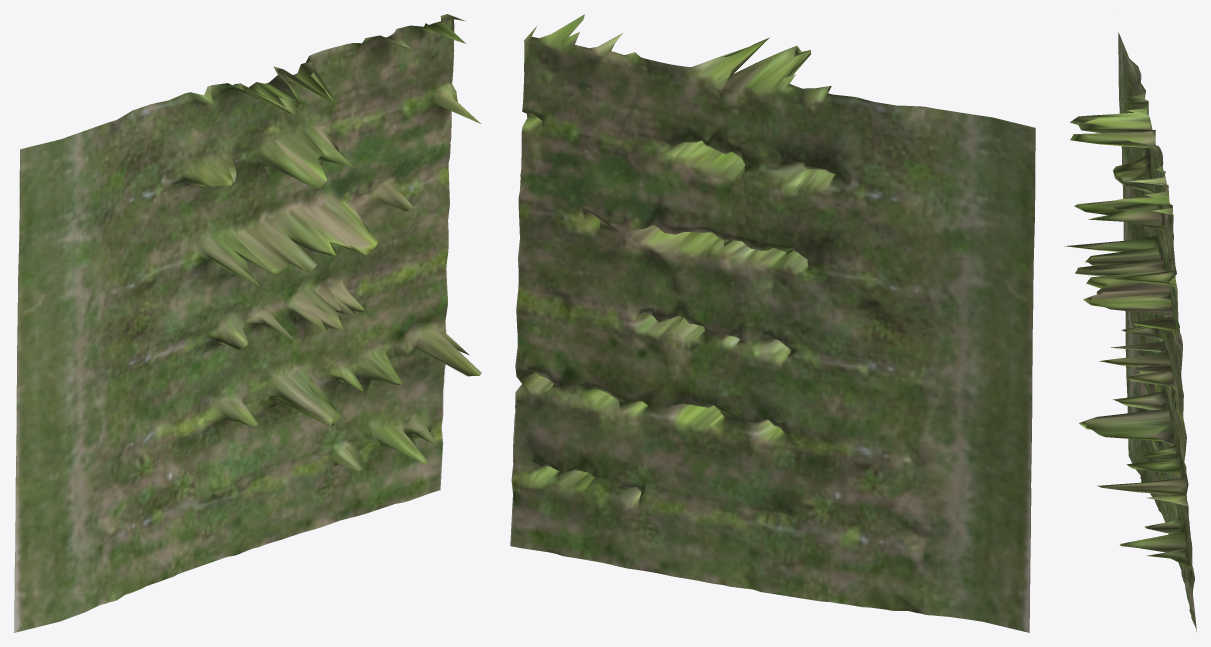
Rendered from map_140_90.obj.
The picture shows the model from 3 angles, left to right: view 1: azimuth 30°, elevation 25°; view 2: azimuth 150°, elevation 25°; view 3: azimuth 270°, elevation 25°; orthographic projection. The views are drawn at different scales.
Visible parts, largest first — view 1: map_140_90.obj; view 2: map_140_90.obj; view 3: map_140_90.obj.
Part boxes in pixels (<box>): map_140_90.obj: <box>14,14,481,632</box>; map_140_90.obj: <box>510,14,1035,632</box>; map_140_90.obj: <box>1064,14,1196,631</box>.
Size of the model in its own units: 10 by 10 by 2.85.
1 material, 1 textured.
